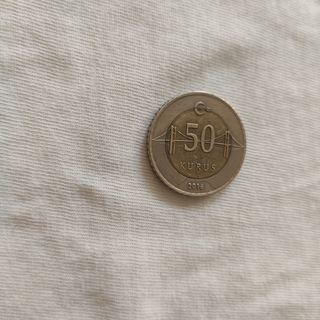50KURUS: (143, 90, 248, 198)
